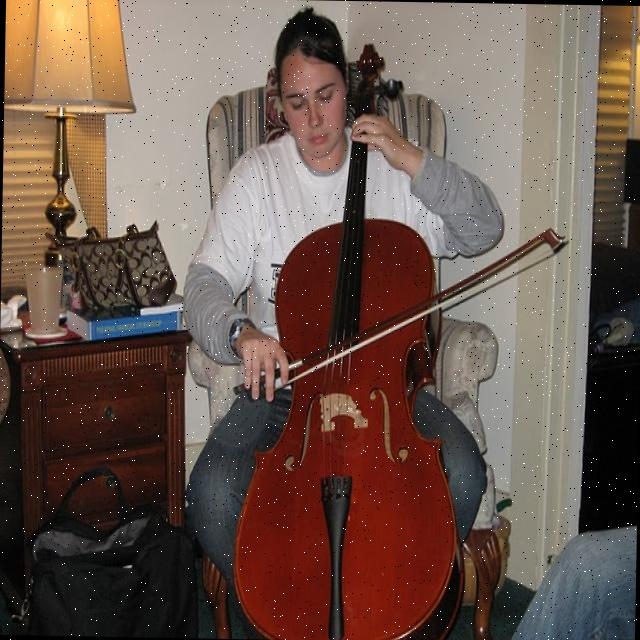cello: (231, 39, 481, 640)
